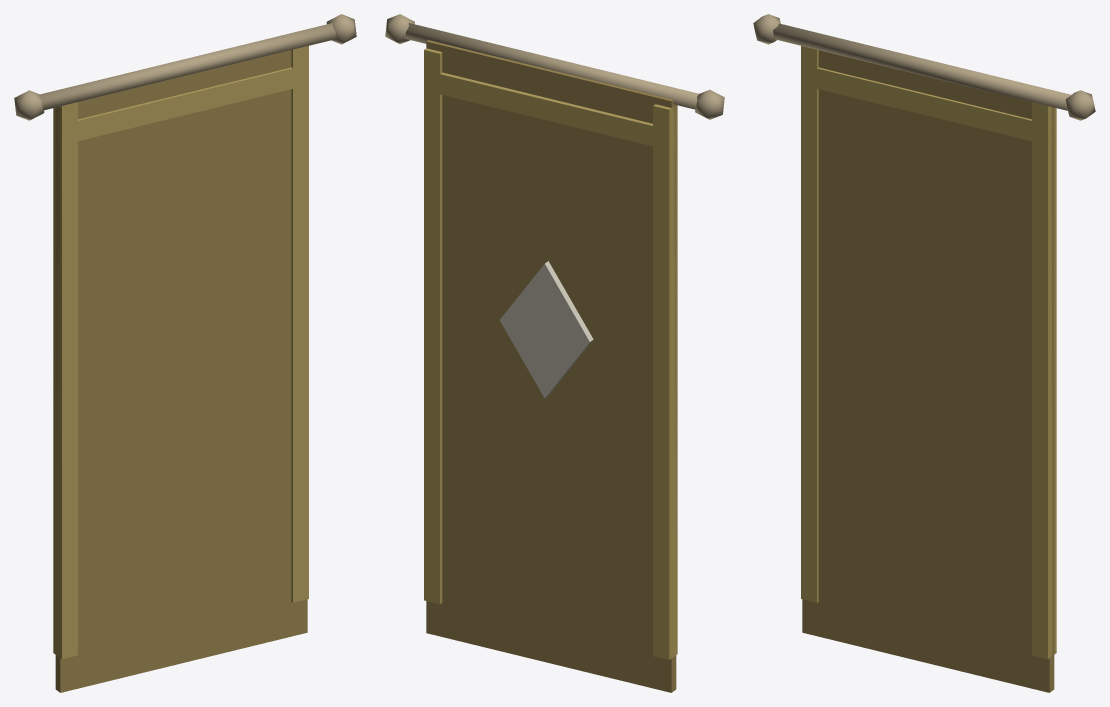
File: sand_slime_banner_v0.glb
3 views of the same model, side by side, from view 1: azimuth 30°, elevation 25°; view 2: azimuth 150°, elevation 25°; view 3: azimuth 330°, elevation 25° (orthographic).
Parts seen in each view (by area): view 1: sand_slime_banner_v0; view 2: sand_slime_banner_v0; view 3: sand_slime_banner_v0.
Part boxes in pixels (x1,y1,x2,y2): sand_slime_banner_v0: (14, 14, 356, 692); sand_slime_banner_v0: (385, 14, 724, 692); sand_slime_banner_v0: (753, 14, 1095, 692).
Size of the model in its own units: 1.04 by 1.8 by 0.0933.
